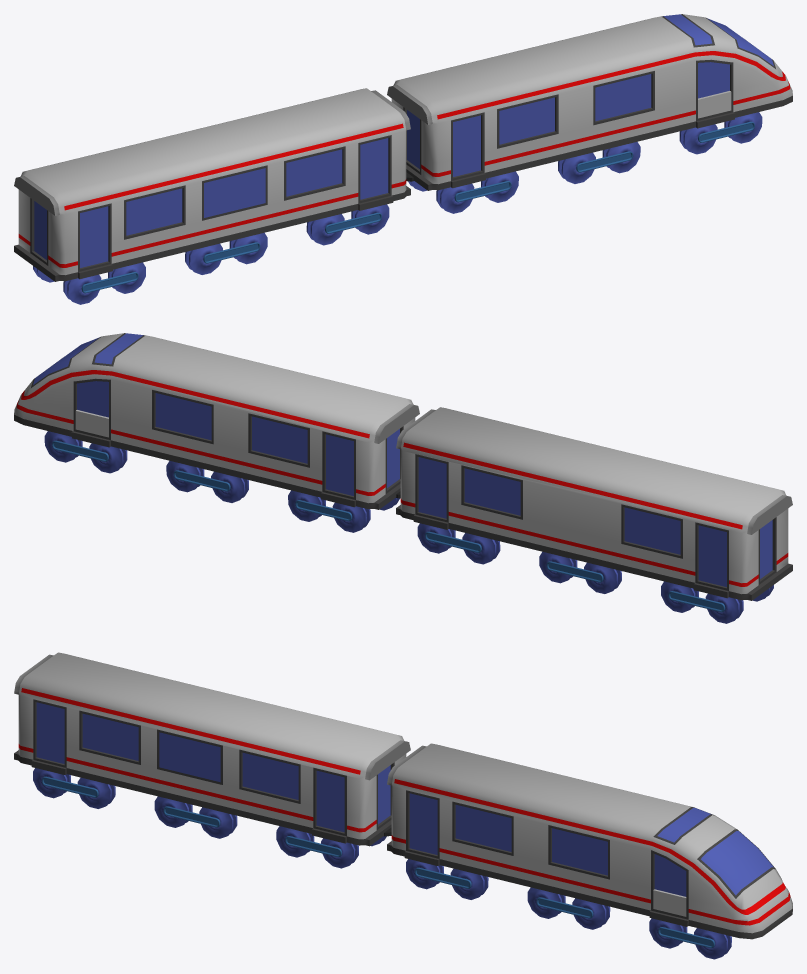
Rendered from Train.fbx.
3 views of the same model, one above another, from view 1: azimuth 30°, elevation 25°; view 2: azimuth 150°, elevation 25°; view 3: azimuth 330°, elevation 25° (orthographic).
Parts seen in each view (by area): view 1: Train; view 2: Train; view 3: Train.
Boxes of the visible parts, left/top/right/bottom form: Train: left=14, top=14, right=792, bottom=304; Train: left=14, top=333, right=792, bottom=623; Train: left=14, top=652, right=792, bottom=959.
Bounding box in the file's own units: 15.72 × 2.33 × 1.75.
